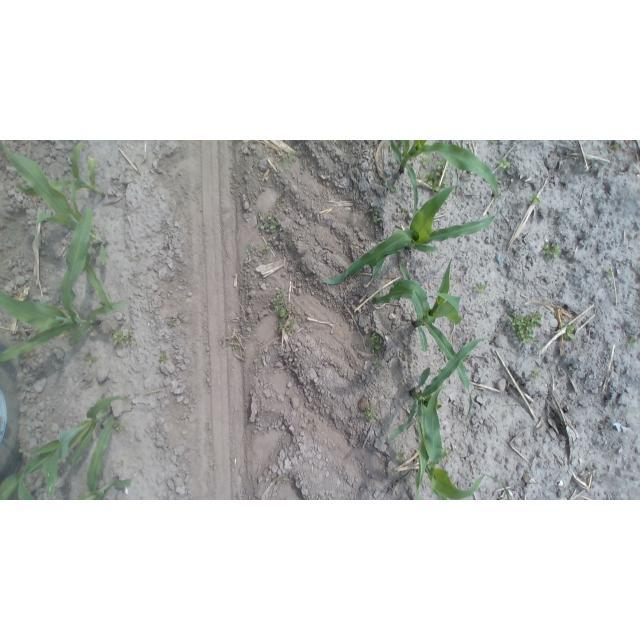Maize: (1, 205, 128, 365), (321, 181, 504, 288), (371, 256, 476, 426), (386, 334, 491, 500), (0, 140, 116, 268), (1, 391, 130, 500), (384, 141, 499, 220), (14, 140, 111, 218), (404, 441, 513, 500), (16, 472, 135, 500)
Weeds: (270, 288, 299, 335), (507, 309, 543, 345), (108, 326, 138, 349), (421, 171, 447, 193), (260, 209, 280, 232), (540, 241, 561, 260), (366, 332, 385, 352), (562, 323, 578, 341), (497, 158, 513, 175), (381, 178, 397, 195), (370, 207, 385, 225), (471, 280, 489, 295), (281, 149, 296, 166), (528, 190, 542, 207), (364, 406, 378, 423), (83, 352, 97, 367), (530, 367, 545, 381), (624, 332, 637, 348), (393, 452, 407, 465), (112, 421, 125, 435), (440, 448, 452, 463), (166, 318, 181, 329), (603, 264, 614, 278), (434, 159, 446, 170), (372, 356, 383, 368), (157, 351, 168, 363), (244, 244, 256, 254), (273, 473, 282, 485), (398, 208, 410, 217), (230, 338, 239, 350), (263, 242, 272, 252), (421, 155, 430, 165), (612, 141, 620, 152), (314, 493, 326, 500), (117, 460, 125, 469), (242, 352, 249, 361), (136, 255, 142, 260)
